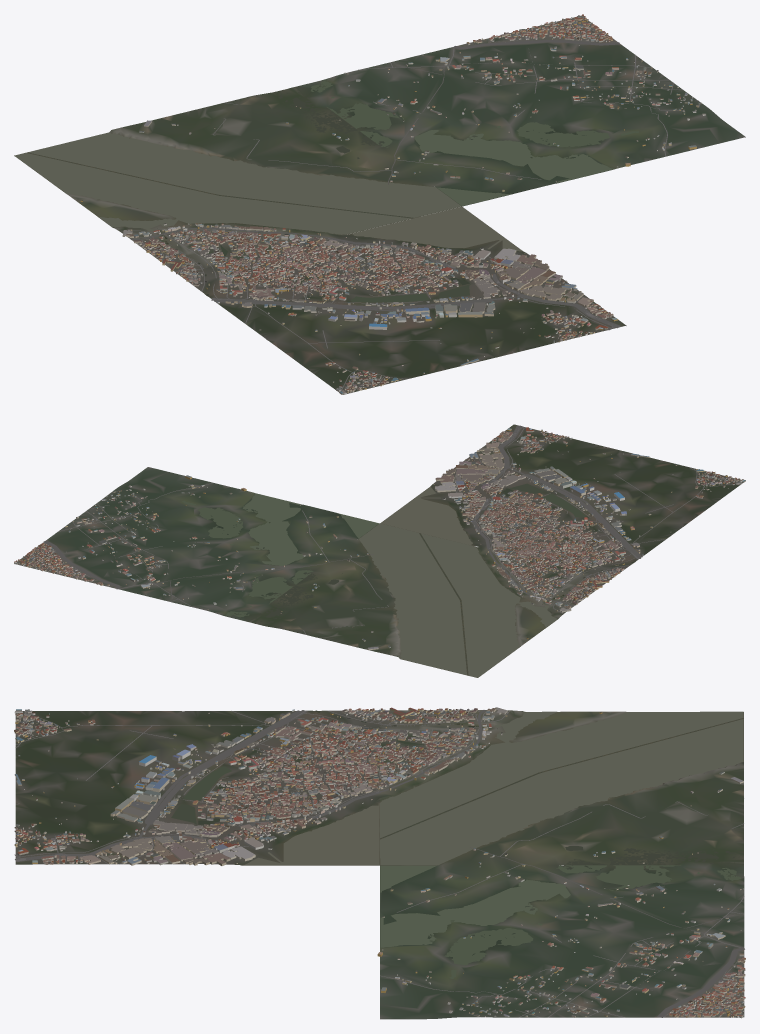
3 renders of one model, top to bottom at view 1: azimuth 30°, elevation 25°; view 2: azimuth 150°, elevation 25°; view 3: azimuth 270°, elevation 25°, orthographic. The views are drawn at different scales.
Visible parts, largest first — view 1: ground, water, buildings, roads; view 2: ground, water, buildings, roads; view 3: ground, water, buildings, roads.
Boxes of the visible parts, x1,y1,x2,y2 form: ground: (14,15,745,394); water: (14,81,638,302); buildings: (80,14,705,394); roads: (121,20,700,391); ground: (14,424,742,677); water: (182,483,635,677); buildings: (14,427,745,650); roads: (30,425,742,634); ground: (15,710,744,1019); water: (171,710,743,978); buildings: (14,707,745,1018); roads: (14,710,744,1017).
Size of the model in its own units: 2819 by 28.22 by 2817.
